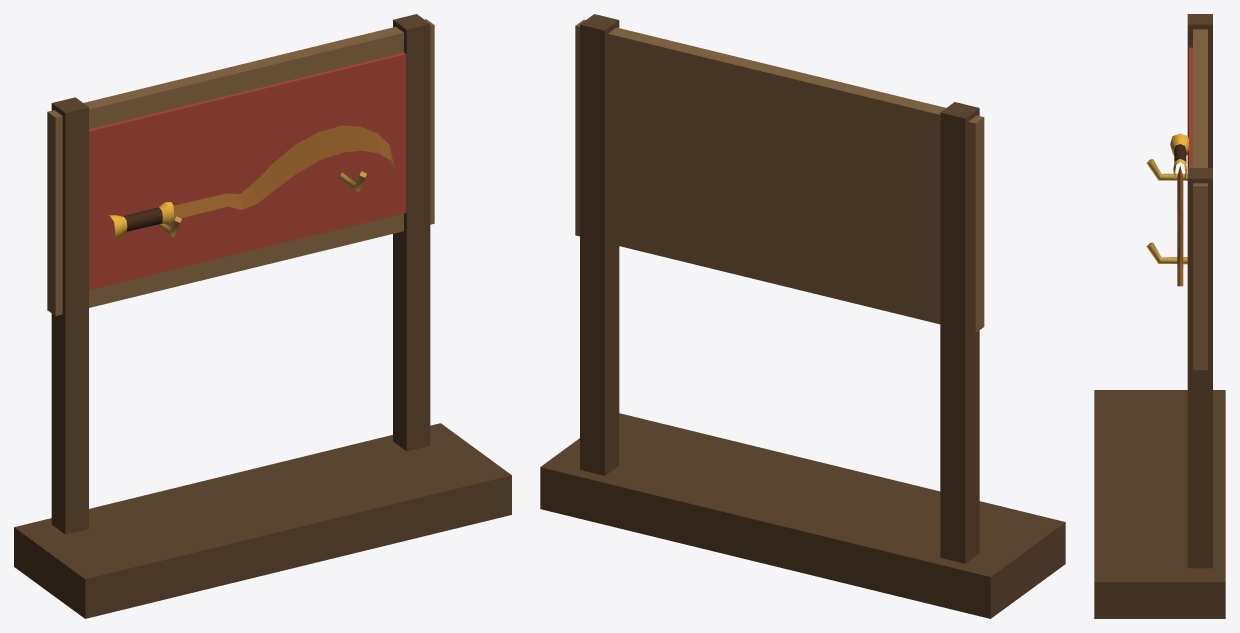
The model's file is khopesh_stand.glb.
3 renders of one model, left to right at view 1: azimuth 30°, elevation 25°; view 2: azimuth 150°, elevation 25°; view 3: azimuth 270°, elevation 25°, orthographic. The views are drawn at different scales.
Parts seen in each view (by area): view 1: khopesh_stand; view 2: khopesh_stand; view 3: khopesh_stand.
Boxes of the visible parts, box(x1,y1,x2,y2) form: khopesh_stand: box(14, 14, 511, 618); khopesh_stand: box(540, 14, 1065, 618); khopesh_stand: box(1094, 14, 1225, 618).
Bounding box in the file's own units: 0.9 × 0.93 × 0.26.
